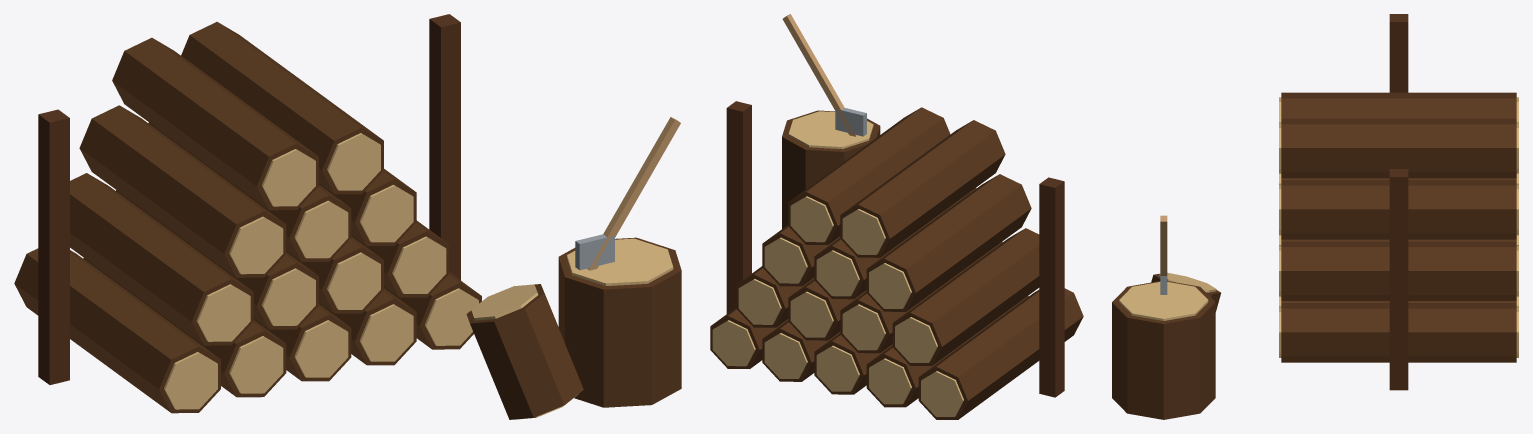
File: Camp_Woodpile.fbx
3 renders of one model, left to right at view 1: azimuth 30°, elevation 25°; view 2: azimuth 150°, elevation 25°; view 3: azimuth 270°, elevation 25°, orthographic. The views are drawn at different scales.
Visible parts, largest first — view 1: Camp_Woodpile; view 2: Camp_Woodpile; view 3: Camp_Woodpile.
Boxes of the visible parts, box(x1,y1,x2,y2) form: Camp_Woodpile: box(14, 14, 681, 419); Camp_Woodpile: box(710, 14, 1083, 419); Camp_Woodpile: box(1112, 14, 1518, 419).
Bounding box in the file's own units: 1.95 × 1.06 × 1.73.
